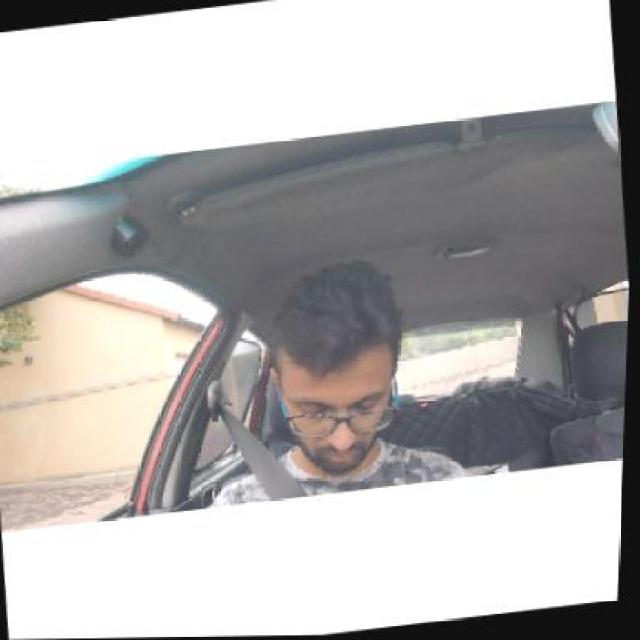drowsy: (264, 264, 412, 480)
